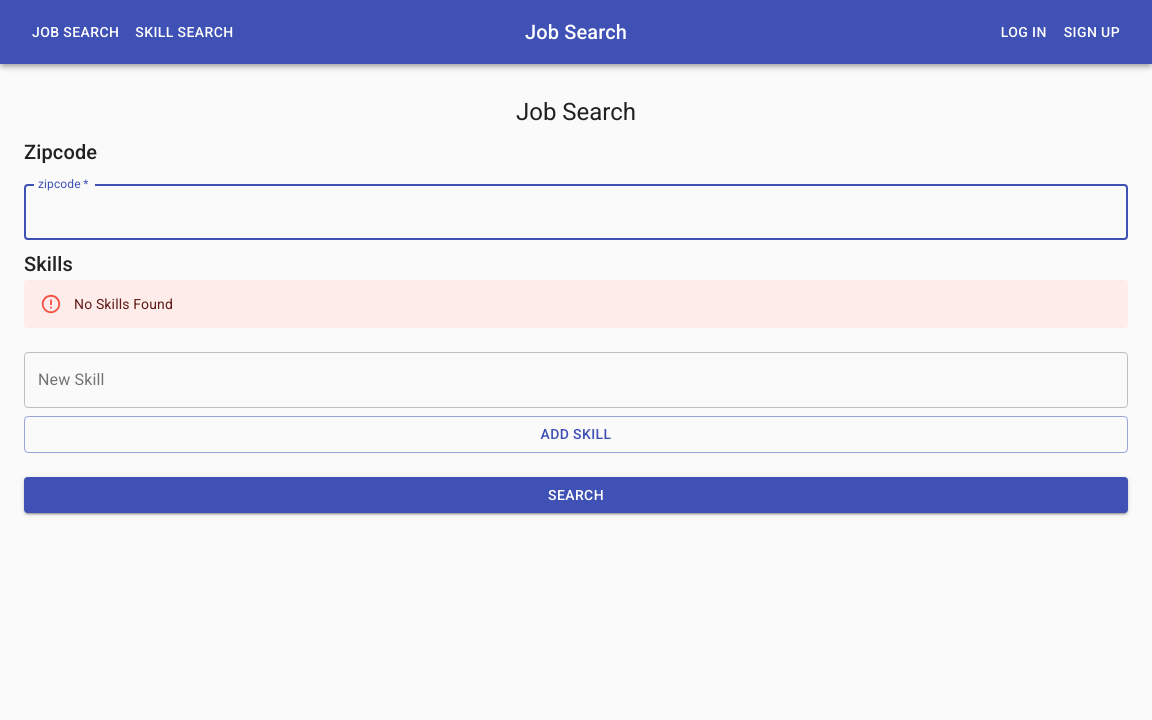
Job Search › Job Results Not 5-letter zip Code - FAILURE
Check: the heading with id "navBarTitle" reads "Job Search", box x1=525 y1=20 x2=627 y2=44
Type "1234" into the field with id "zipcode" at (576,212), box x1=24 y1=184 x2=1128 y2=240
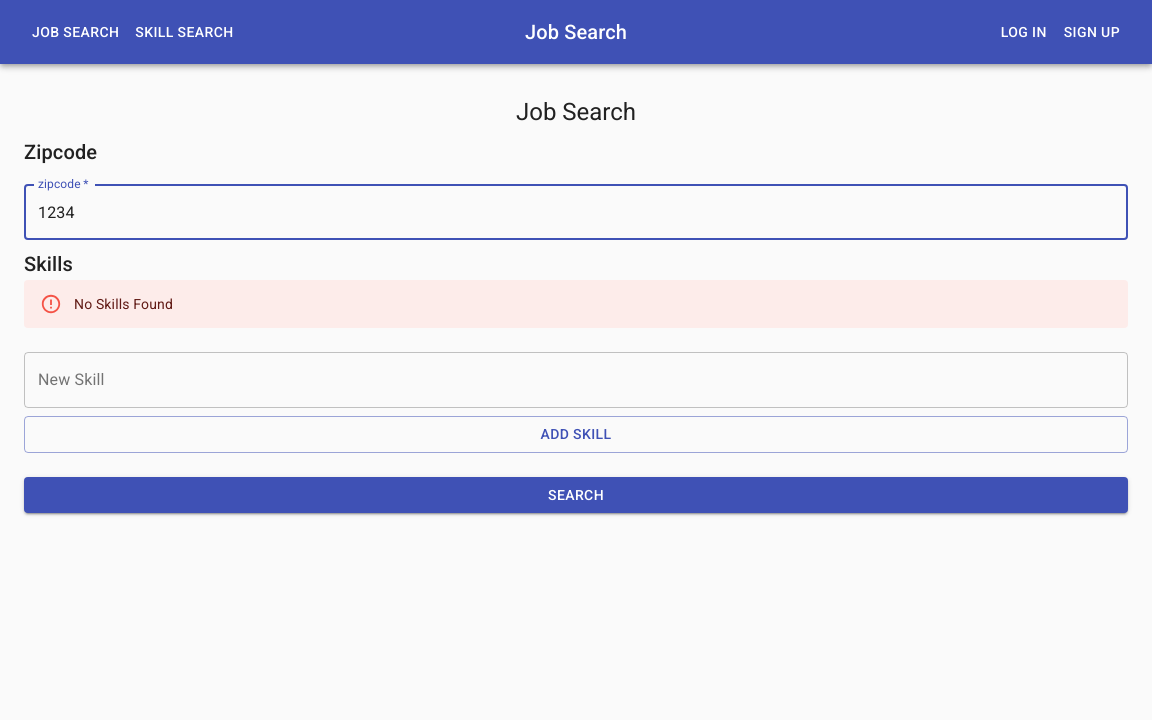
Click the button with id "submit" at (576,496), box x1=24 y1=477 x2=1128 y2=514
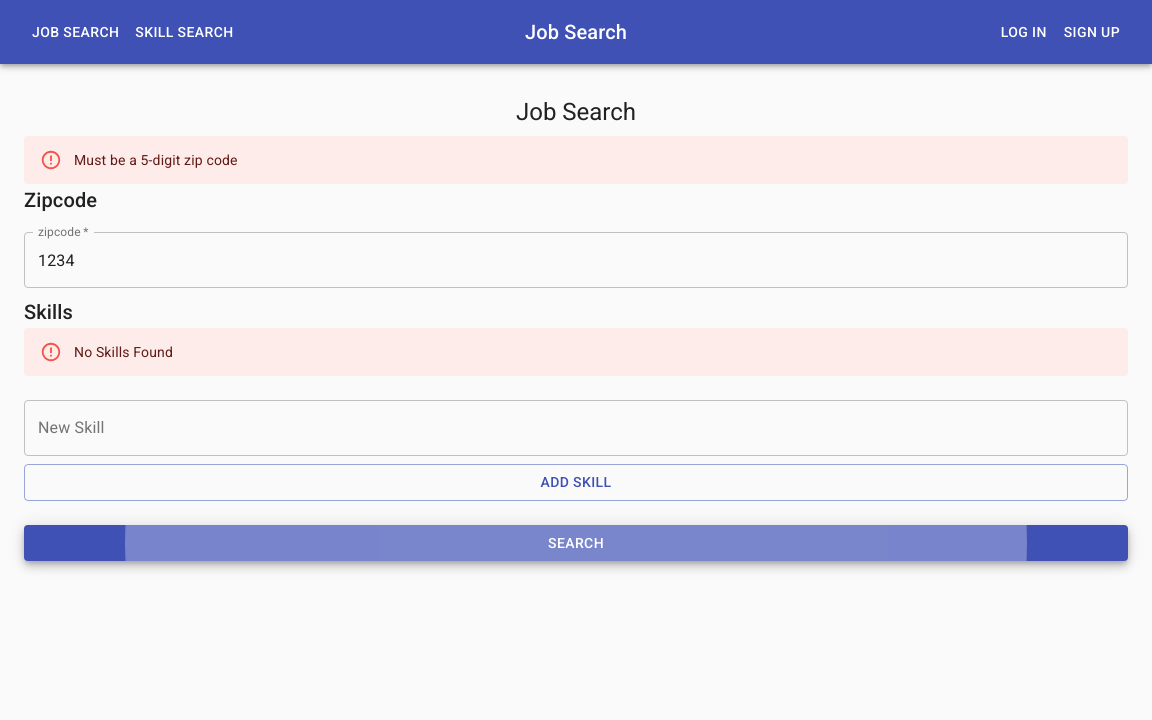
Check: the text "Must be a 5-digit zip code" is shown, box x1=74 y1=152 x2=238 y2=168
